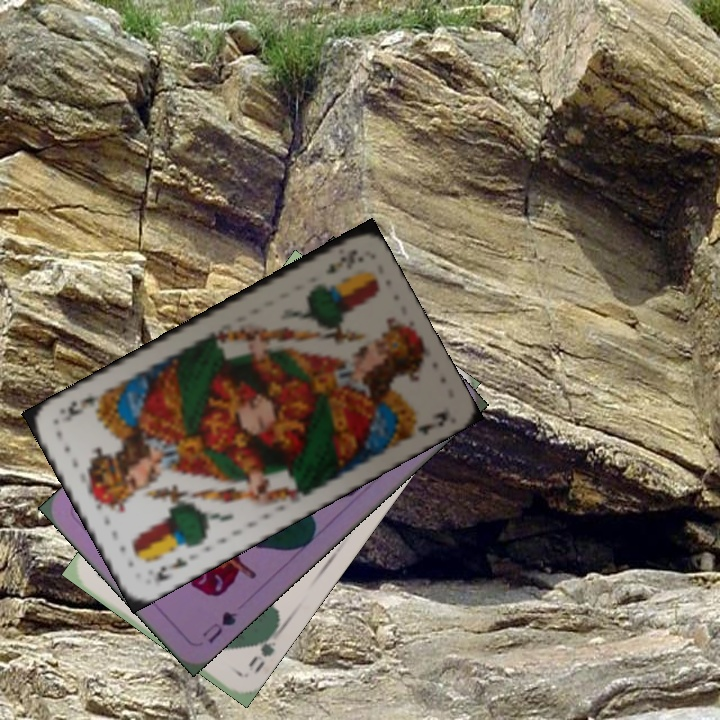EK: (321, 245, 361, 277), (150, 553, 191, 584)
GO: (244, 625, 280, 678)
GU: (198, 607, 241, 646)
